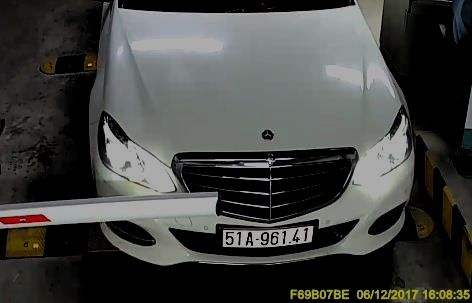plate: (222, 222, 323, 249)
